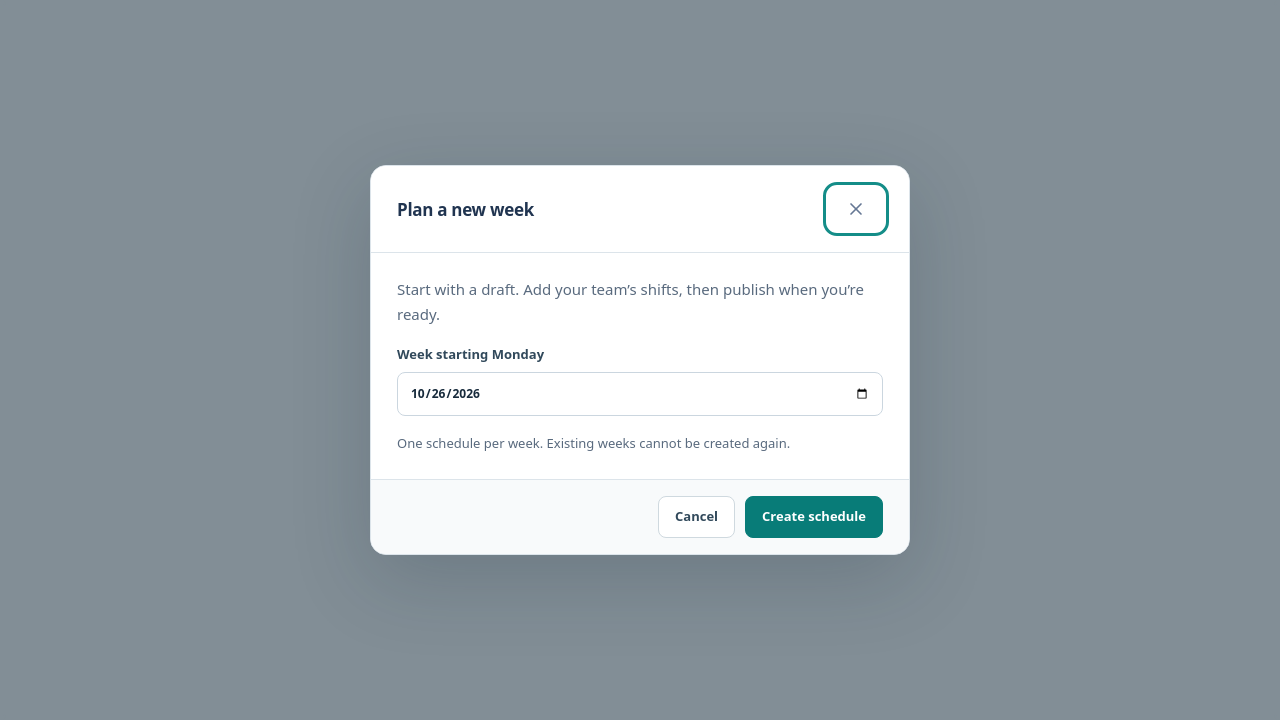
Test: schedule creation rejects a non-Monday before contacting the backend
The width and height of the screenshot is (1280, 720).
Step 1. Type "2026-10-27" into the date field labelled "Week starting Monday" → (640, 394), box [397,372,883,416]
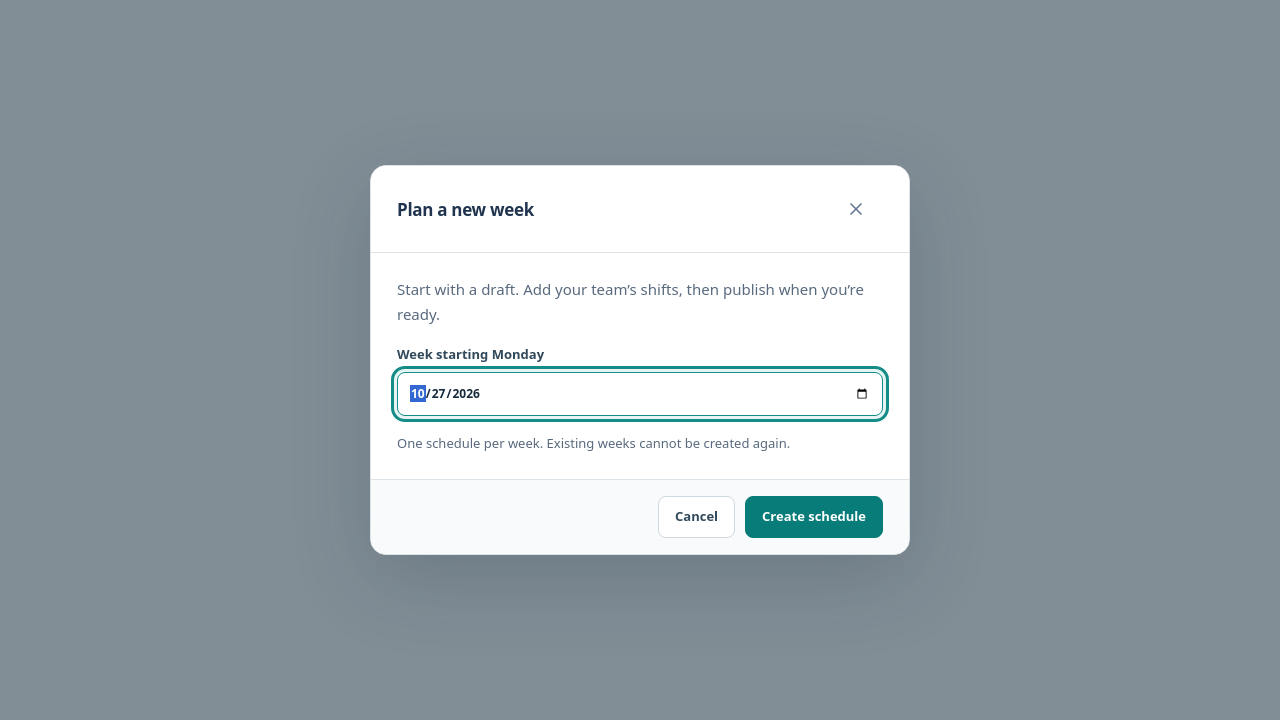
Step 2. Click the button "Create schedule" → (814, 517), box [745,496,883,538]
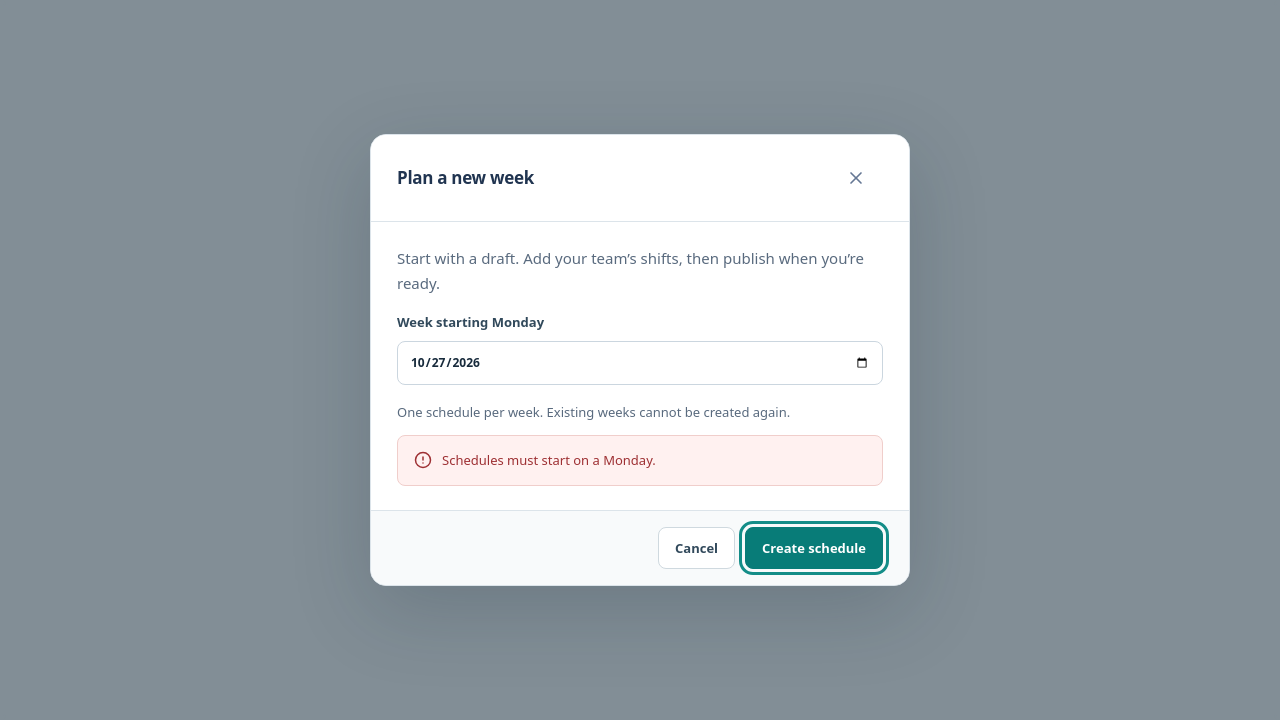
Expected: the message shows "Schedules must start on a Monday", [442,451,656,469]
